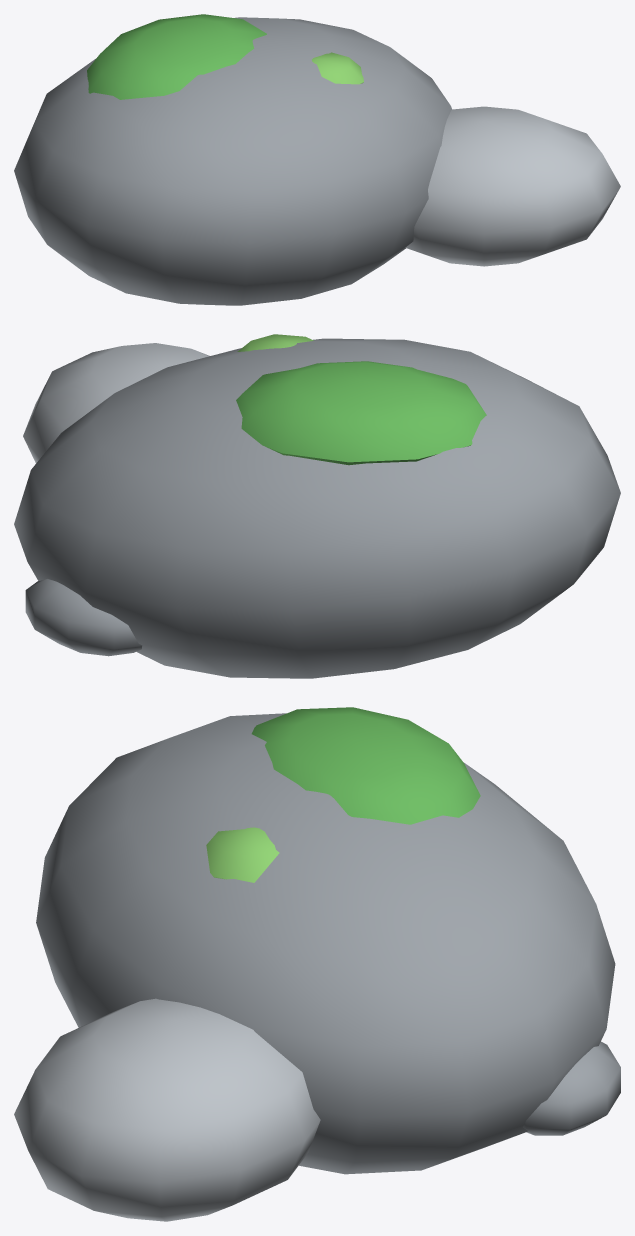
The model's file is rock.glb.
3 views of the same model, one above another, from view 1: azimuth 30°, elevation 25°; view 2: azimuth 150°, elevation 25°; view 3: azimuth 270°, elevation 25° (orthographic). The views are drawn at different scales.
Parts seen in each view (by area): view 1: rock; view 2: rock; view 3: rock.
Part boxes in pixels (left/top/right/bottom): rock: left=14, top=14, right=620, bottom=305; rock: left=14, top=334, right=620, bottom=678; rock: left=14, top=707, right=620, bottom=1221.
Size of the model in its own units: 0.909 by 0.4124 by 0.6802.
